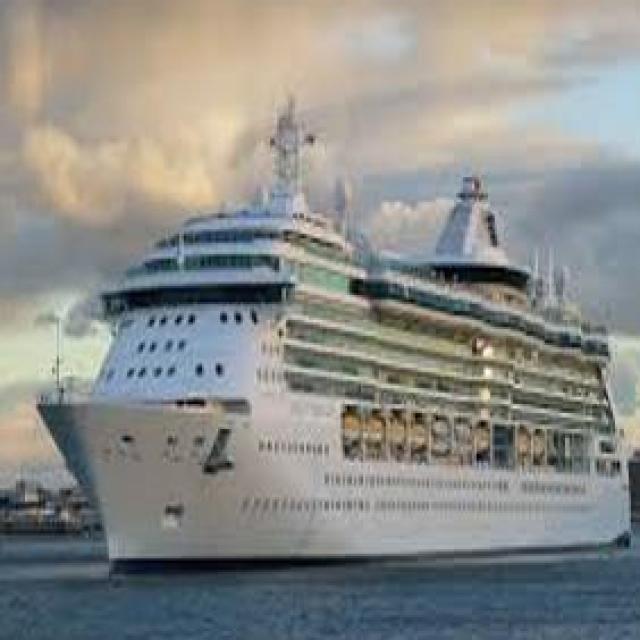passenger ship: (45, 193, 640, 574)
